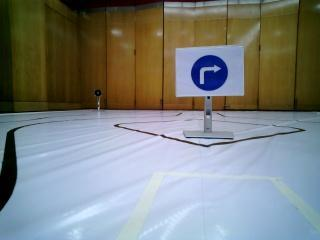right: (177, 48, 238, 94)
